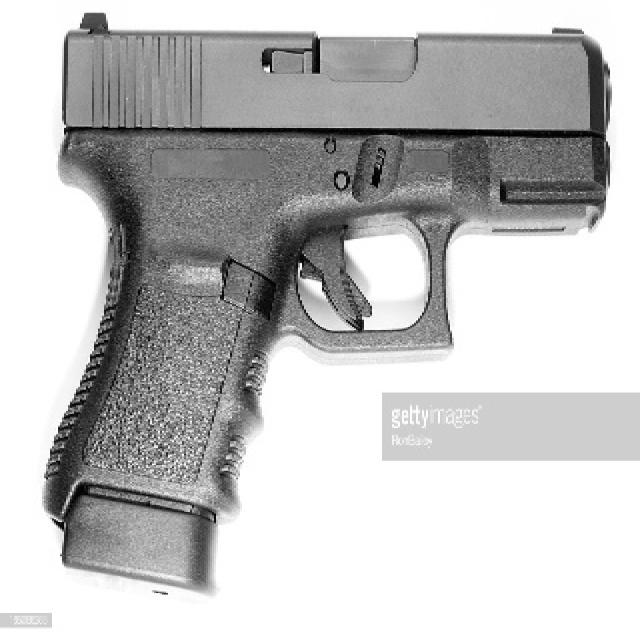handgun: (41, 1, 611, 591)
